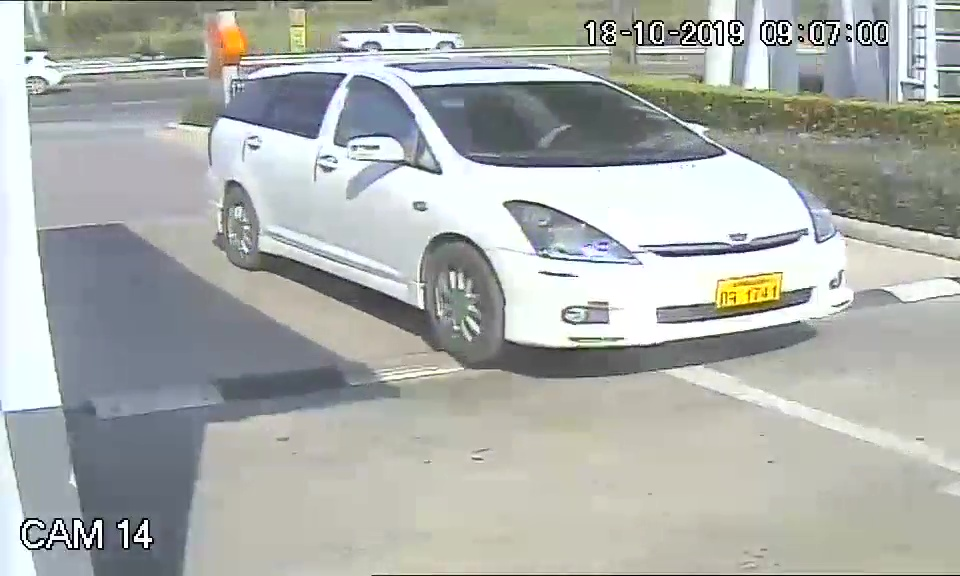sedan: (204, 45, 858, 367)
